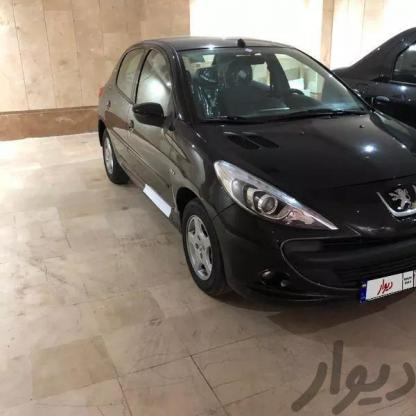Car: (95, 22, 416, 341)
